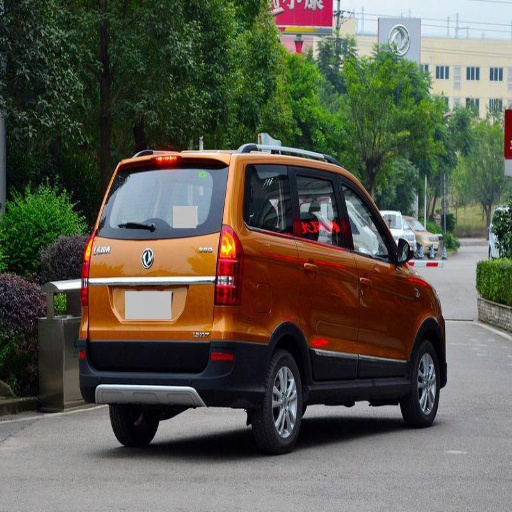back_bumper: (78, 309, 268, 402)
back_right_door: (244, 160, 357, 381)
trunk: (92, 231, 280, 357)
